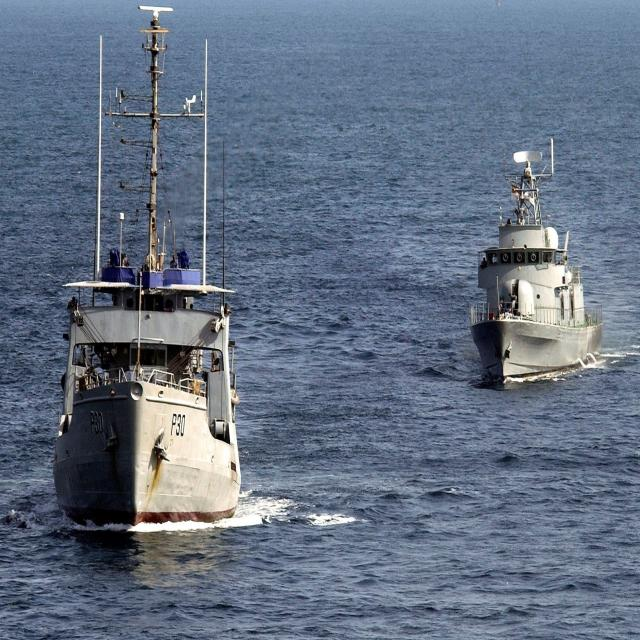navalvessels: (56, 5, 255, 526), (463, 132, 609, 399)
